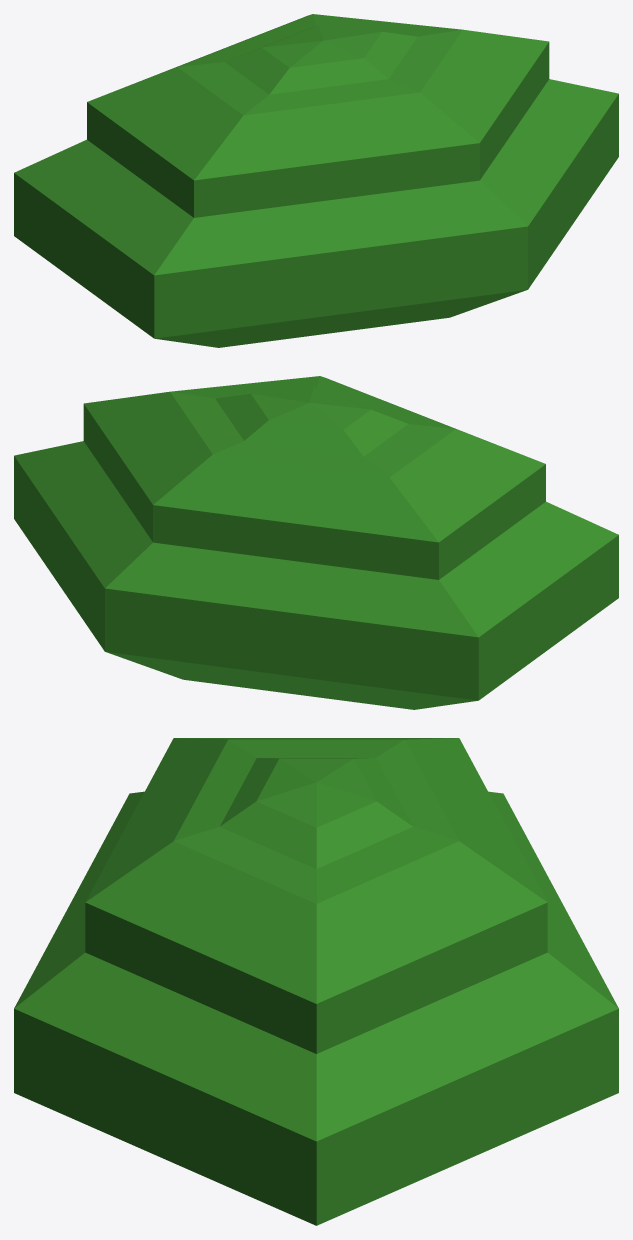
The model's file is bush_green.fbx.
The picture shows the model from 3 angles, top to bottom: view 1: azimuth 30°, elevation 25°; view 2: azimuth 150°, elevation 25°; view 3: azimuth 270°, elevation 25°; orthographic projection. The views are drawn at different scales.
Parts seen in each view (by area): view 1: pSphere1, pSphere3, pSphere4; view 2: pSphere1, pSphere3, pSphere4; view 3: pSphere1, pSphere3, pSphere4.
Boxes of the visible parts, x1=… form: pSphere1: x1=14, y1=79, x2=618, y2=347; pSphere3: x1=87, y1=14, x2=549, y2=217; pSphere4: x1=225, y1=25, x2=417, y2=94; pSphere1: x1=14, y1=441, x2=618, y2=709; pSphere3: x1=83, y1=376, x2=545, y2=579; pSphere4: x1=215, y1=387, x2=407, y2=456; pSphere1: x1=14, y1=791, x2=618, y2=1225; pSphere3: x1=85, y1=738, x2=547, y2=1053; pSphere4: x1=220, y1=758, x2=412, y2=868.
Bounding box in the file's own units: 7.71 × 3.3 × 5.66.
